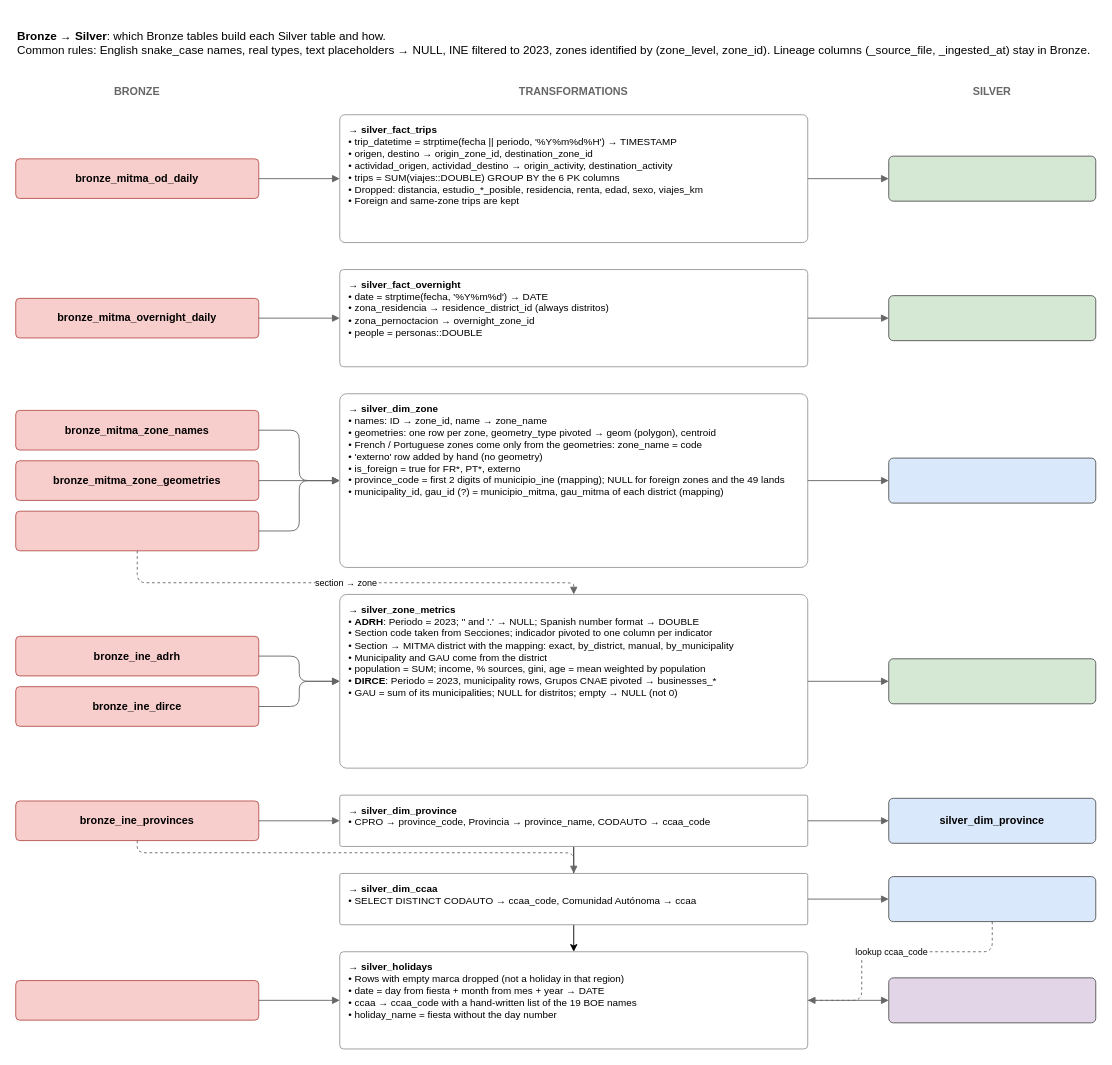
This 1112x1065 diagram has some shape labels left out. Here are the shapes that lost their labels. From the top down, the centre of each, then its label:
At pixel 992 178: "silver_fact_trips".
At pixel 992 318: "silver_fact_overnight".
At pixel 992 480: "silver_dim_zone".
At pixel 137 530: "bronze_mitma_zone_mapping".
At pixel 992 681: "silver_zone_metrics".
At pixel 992 899: "silver_dim_ccaa".
At pixel 137 1000: "bronze_boe_holidays".
At pixel 992 1000: "silver_holidays".
